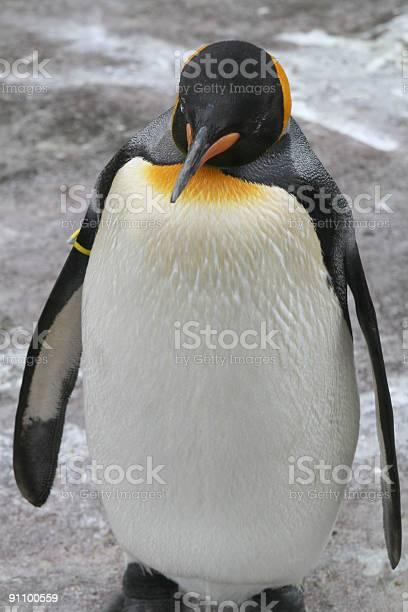king: (6, 36, 405, 612)
